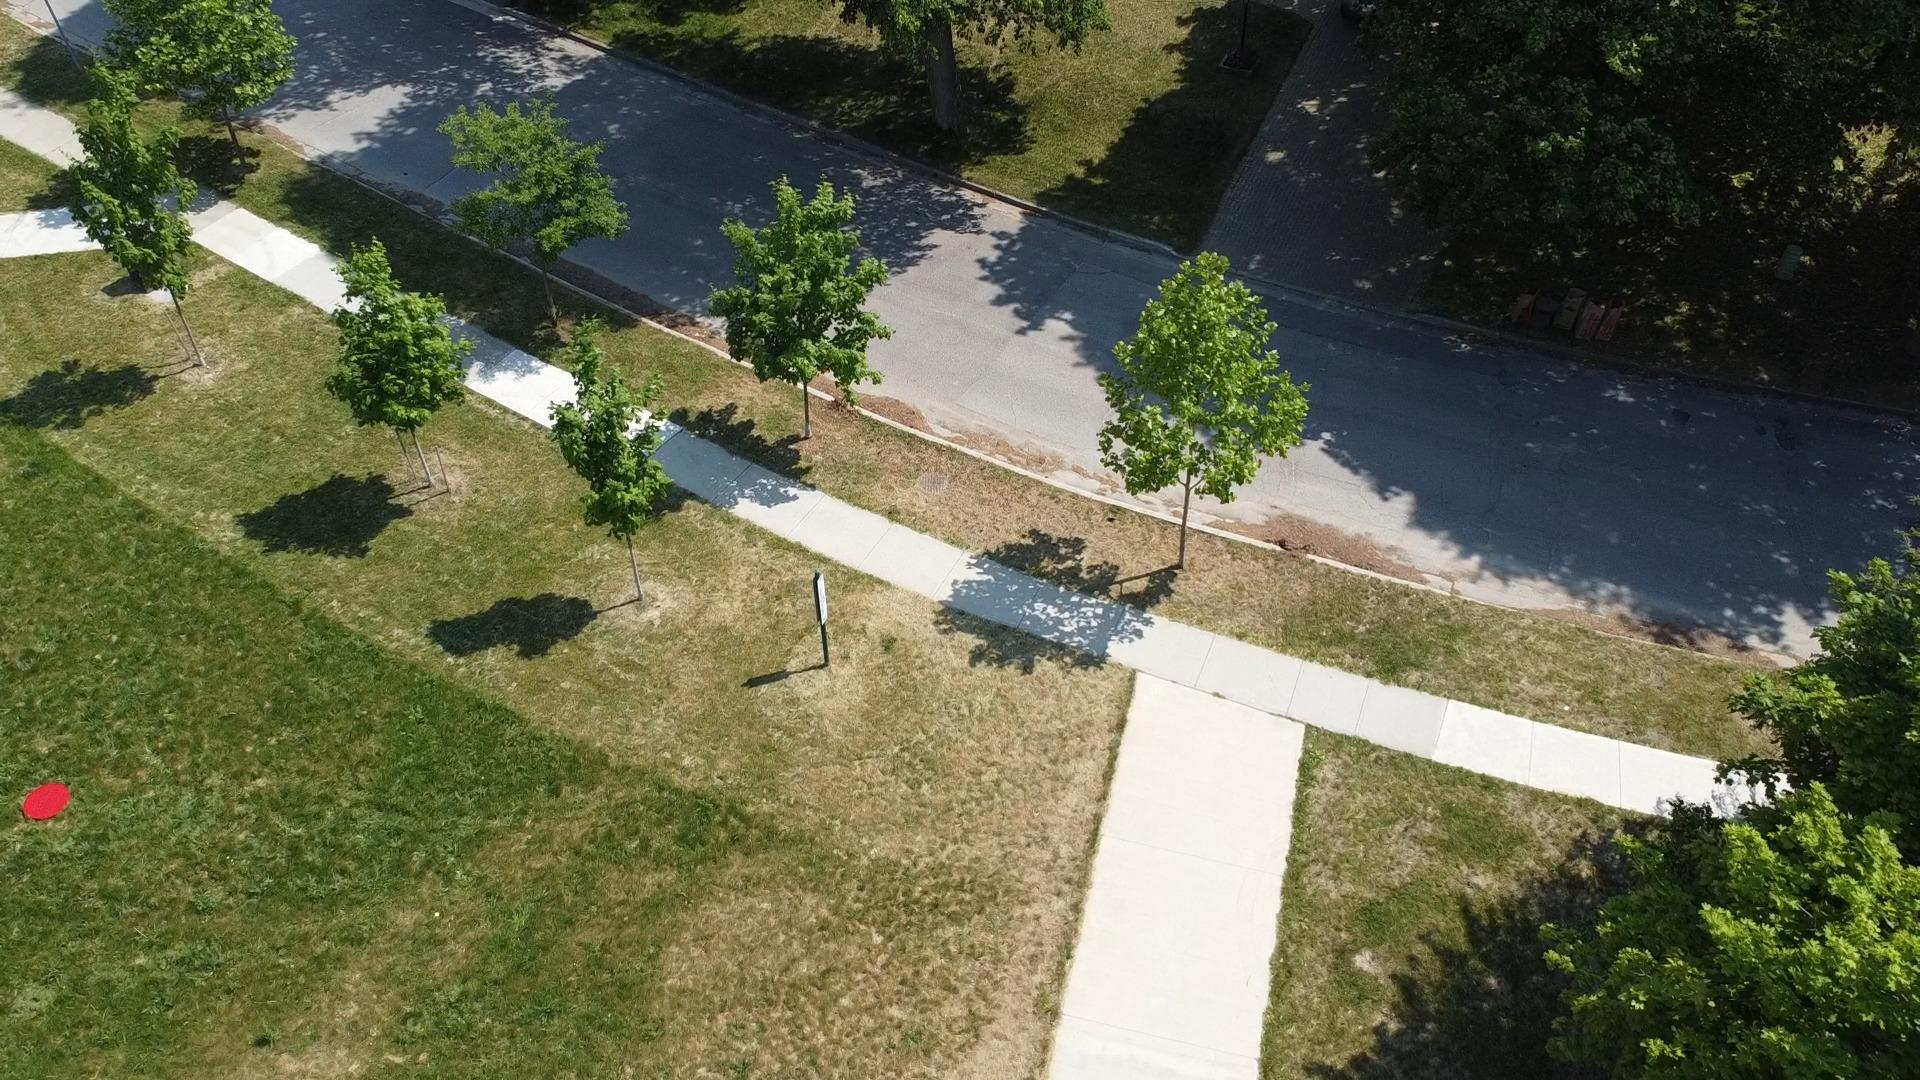Red: (20, 782, 73, 822)
